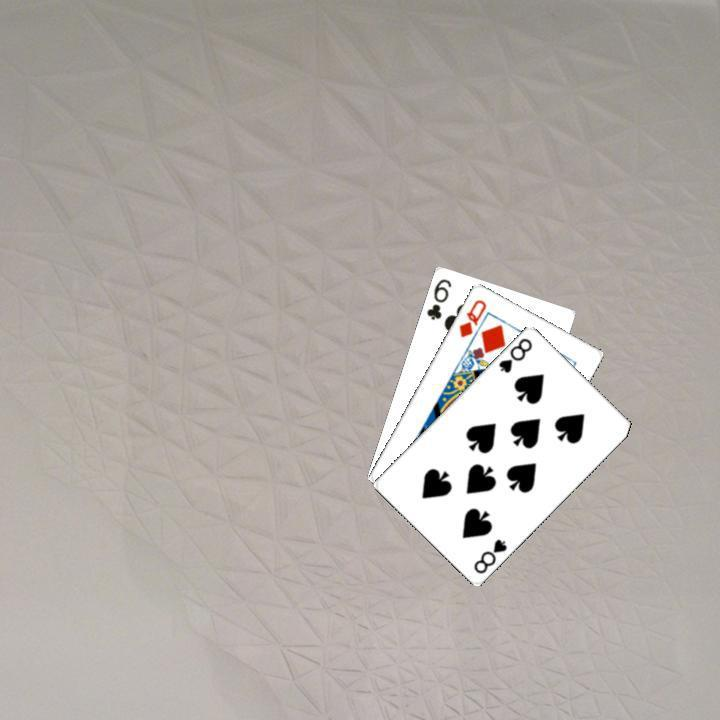6: (422, 274, 453, 322)
8: (494, 333, 534, 375), (469, 534, 509, 575)
Q: (454, 295, 488, 339)
